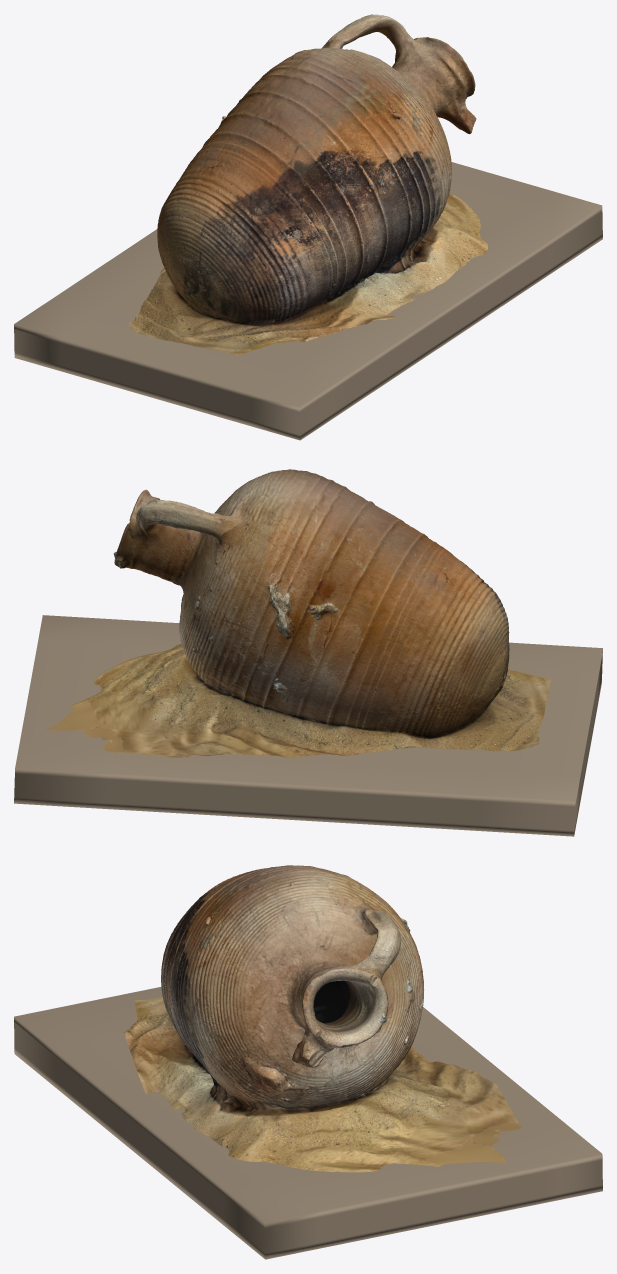
File: asset.glb
3 views of the same model, one above another, from view 1: azimuth 30°, elevation 25°; view 2: azimuth 150°, elevation 25°; view 3: azimuth 270°, elevation 25° (orthographic). The views are drawn at different scales.
Visible parts, largest first — view 1: Object_9, Object_5, Object_4, Object_7, Object_6, Object_3, Object_8; view 2: Object_9, Object_3, Object_5, Object_4, Object_6, Object_7, Object_8, Object_2; view 3: Object_9, Object_5, Object_6, Object_4, Object_7, Object_3, Object_8, Object_2.
Boxes of the visible parts, box(x1,y1,x2,y2) form: Object_9: box(14, 162, 602, 440); Object_5: box(170, 14, 486, 346); Object_4: box(136, 22, 466, 348); Object_7: box(137, 32, 480, 336); Object_6: box(136, 14, 487, 344); Object_3: box(129, 74, 476, 355); Object_8: box(168, 23, 467, 337); Object_9: box(14, 615, 602, 836); Object_3: box(113, 532, 550, 758); Object_5: box(75, 489, 543, 755); Object_4: box(116, 469, 546, 750); Object_6: box(98, 471, 544, 756); Object_7: box(131, 470, 518, 749); Object_8: box(189, 494, 509, 739); Object_2: box(45, 677, 123, 752); Object_9: box(14, 987, 602, 1259); Object_5: box(127, 867, 512, 1171); Object_6: box(125, 866, 500, 1172); Object_4: box(136, 865, 482, 1161); Object_7: box(129, 875, 420, 1152); Object_3: box(123, 906, 517, 1133); Object_8: box(128, 865, 418, 1145); Object_2: box(362, 1122, 521, 1172).
Size of the model in its own units: 4.11 by 1.77 by 3.53.
2 materials, 2 textured.
